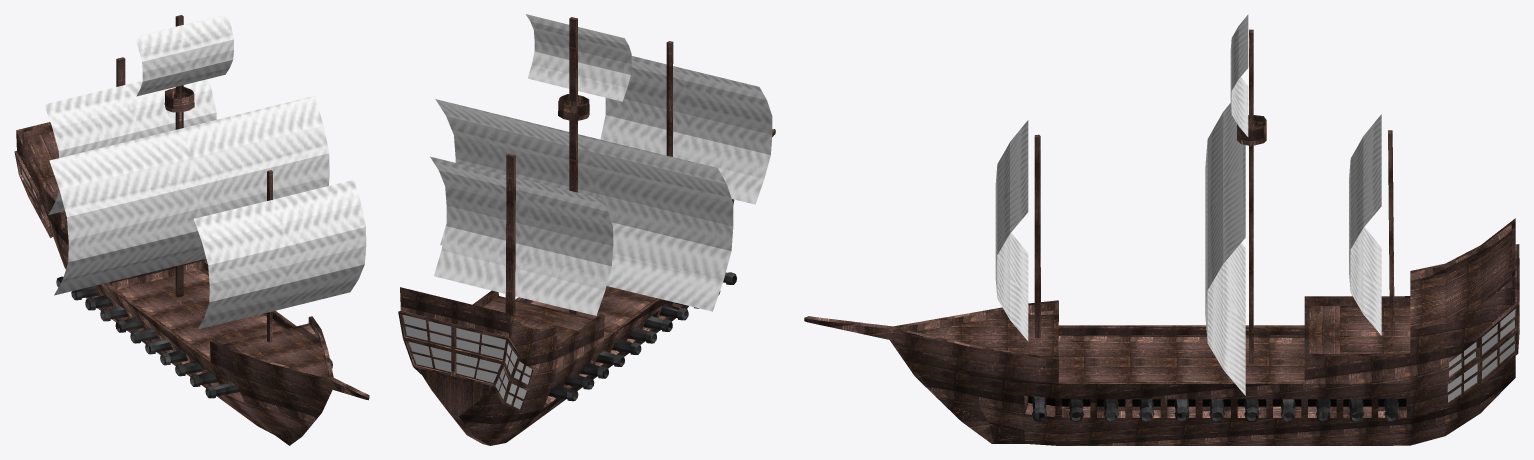
The model's file is pirate_ship.fbx.
The picture shows the model from 3 angles, left to right: view 1: azimuth 30°, elevation 25°; view 2: azimuth 150°, elevation 25°; view 3: azimuth 270°, elevation 25°; orthographic projection. The views are drawn at different scales.
Parts seen in each view (by area): view 1: PirateShip; view 2: PirateShip; view 3: PirateShip.
Boxes of the visible parts, x1,y1,x2,y2 form: PirateShip: (14,14,369,445); PirateShip: (398,14,775,445); PirateShip: (804,14,1519,445).
Bounding box in the file's own units: 515 × 647 × 1017.
